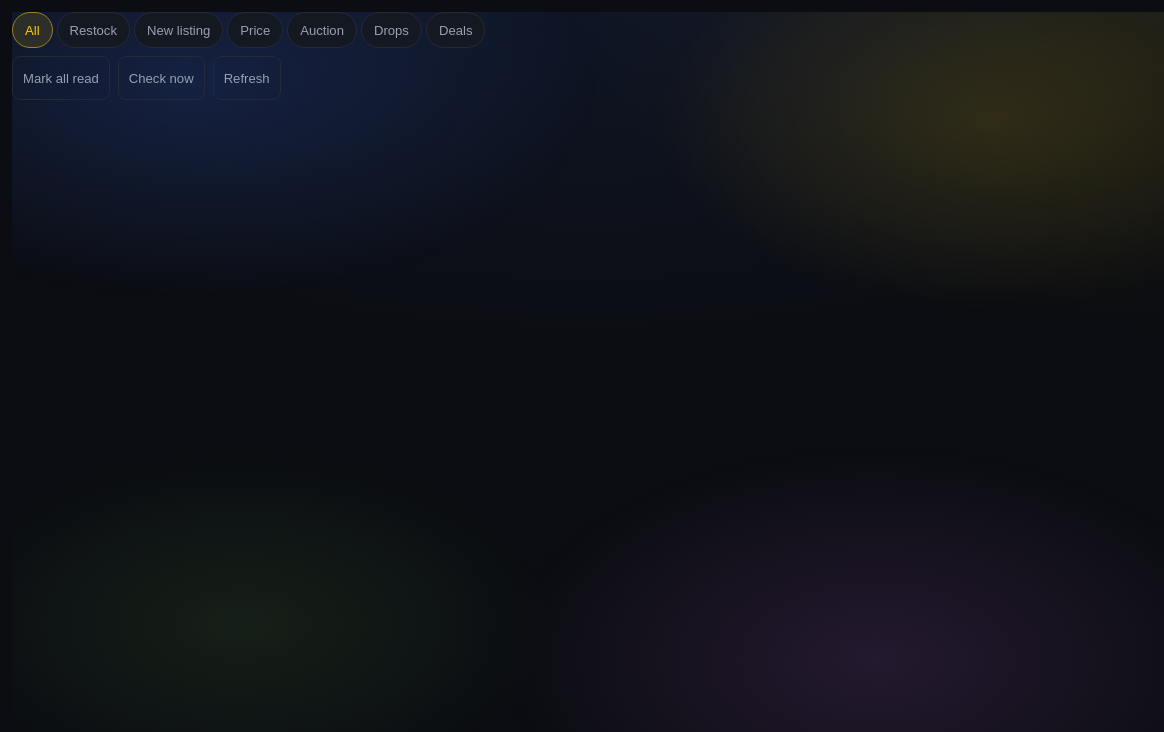
Test: AlertsFeed › filters to deal alerts when the Deals chip is tapped
The image size is (1164, 732).
Click the tab with class "alert-chip" showing "Deals": (456, 30) [426,12,485,48]
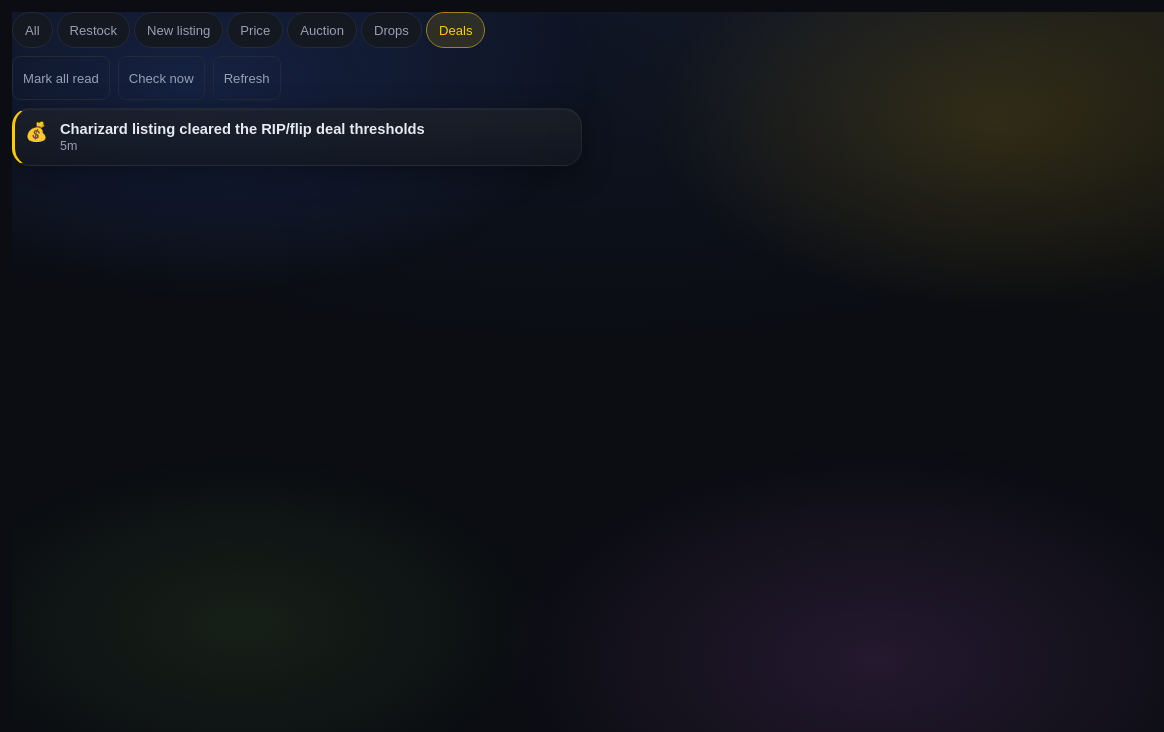
Check: the text "Charizard listing cleared the RIP/flip deal thresholds" is shown, box [60,121,425,137]
